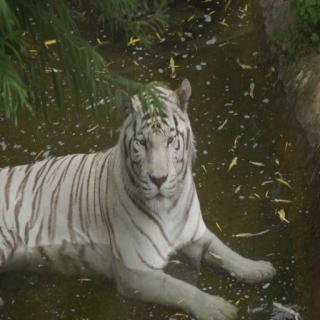Tiger: (0, 64, 258, 302)
